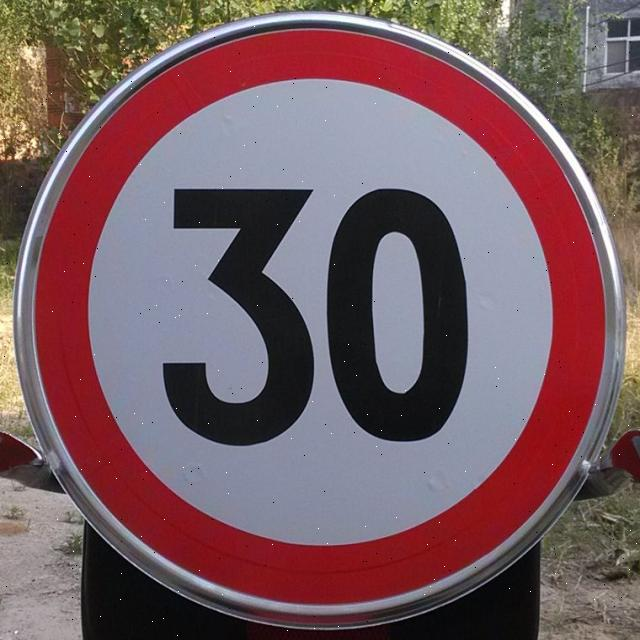speed limit 30: (16, 10, 626, 630)
